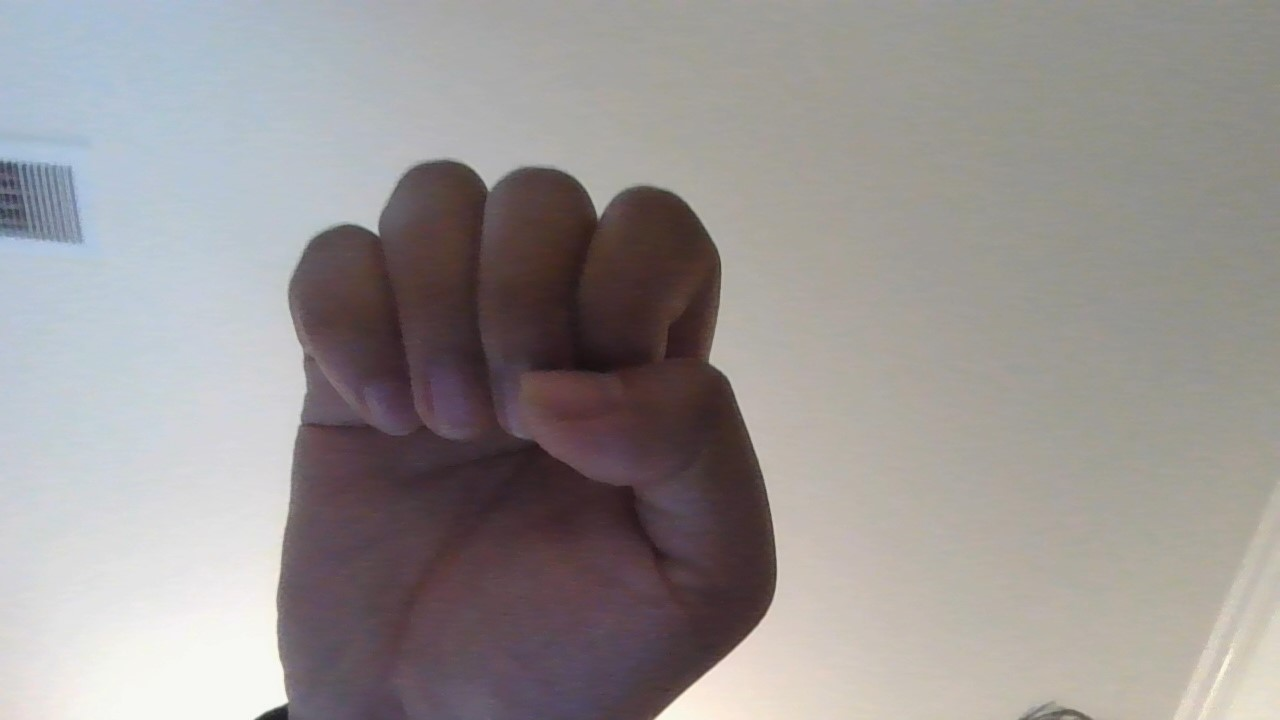e: (191, 148, 799, 720)
